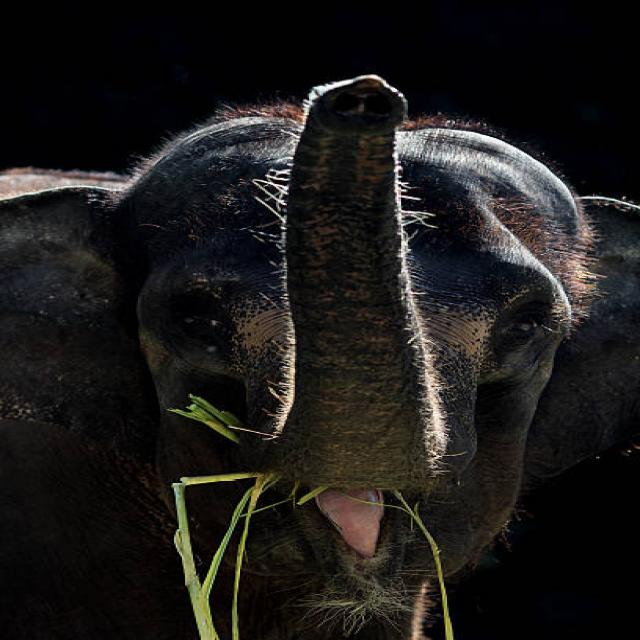Elephant: (1, 70, 624, 624)
